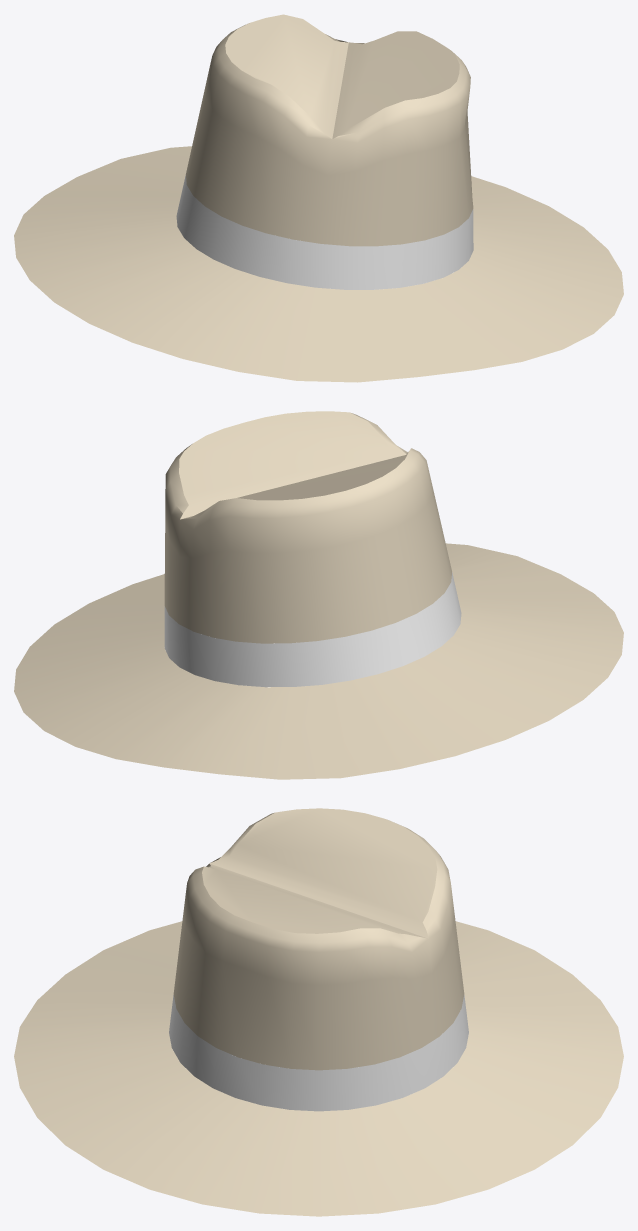
Rendered from ramen4.glb.
3 renders of one model, top to bottom at view 1: azimuth 30°, elevation 25°; view 2: azimuth 150°, elevation 25°; view 3: azimuth 270°, elevation 25°, orthographic.
Visible parts, largest first — view 1: Sombrero; view 2: Sombrero; view 3: Sombrero.
Boxes of the visible parts, <box> form: Sombrero: <box>14,14,623,382</box>; Sombrero: <box>14,411,623,779</box>; Sombrero: <box>14,808,623,1216</box>.
Size of the model in its own units: 0.1383 by 0.0599 by 0.1375.
